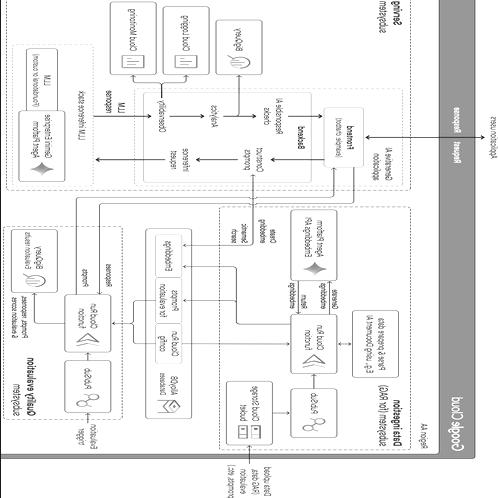actor: (486, 117, 498, 158)
compute: (141, 92, 312, 184), (12, 48, 70, 184), (290, 209, 337, 281), (321, 104, 368, 171), (290, 315, 337, 374)
data_flow: (93, 196, 331, 199), (114, 202, 339, 204), (96, 114, 208, 118), (182, 322, 290, 326), (92, 158, 230, 161), (365, 136, 483, 139), (184, 343, 292, 346), (251, 175, 254, 274), (185, 299, 268, 302), (185, 244, 268, 247), (251, 246, 254, 324), (338, 171, 341, 236), (242, 193, 245, 256), (236, 75, 240, 121), (329, 171, 332, 224), (298, 279, 302, 315), (275, 158, 321, 161), (86, 415, 89, 460), (130, 303, 133, 345), (275, 114, 306, 118), (188, 266, 248, 268), (247, 459, 250, 498), (326, 279, 329, 315), (37, 322, 64, 326), (242, 246, 245, 267), (34, 294, 37, 314), (86, 358, 89, 374), (280, 411, 294, 414), (184, 75, 187, 89), (132, 75, 135, 89), (338, 343, 351, 346), (312, 374, 315, 386)
database_storage: (12, 229, 59, 294), (214, 20, 262, 76), (225, 384, 272, 441), (152, 369, 186, 417), (152, 232, 186, 280)
network_security: (162, 3, 209, 75), (110, 3, 157, 75), (64, 315, 111, 374), (290, 384, 337, 441), (64, 358, 111, 415), (152, 320, 186, 369), (152, 280, 186, 320)
trust_boundary: (0, 0, 475, 460), (0, 0, 456, 455), (9, 0, 407, 197), (217, 208, 410, 450), (134, 86, 403, 188), (4, 226, 122, 420)
